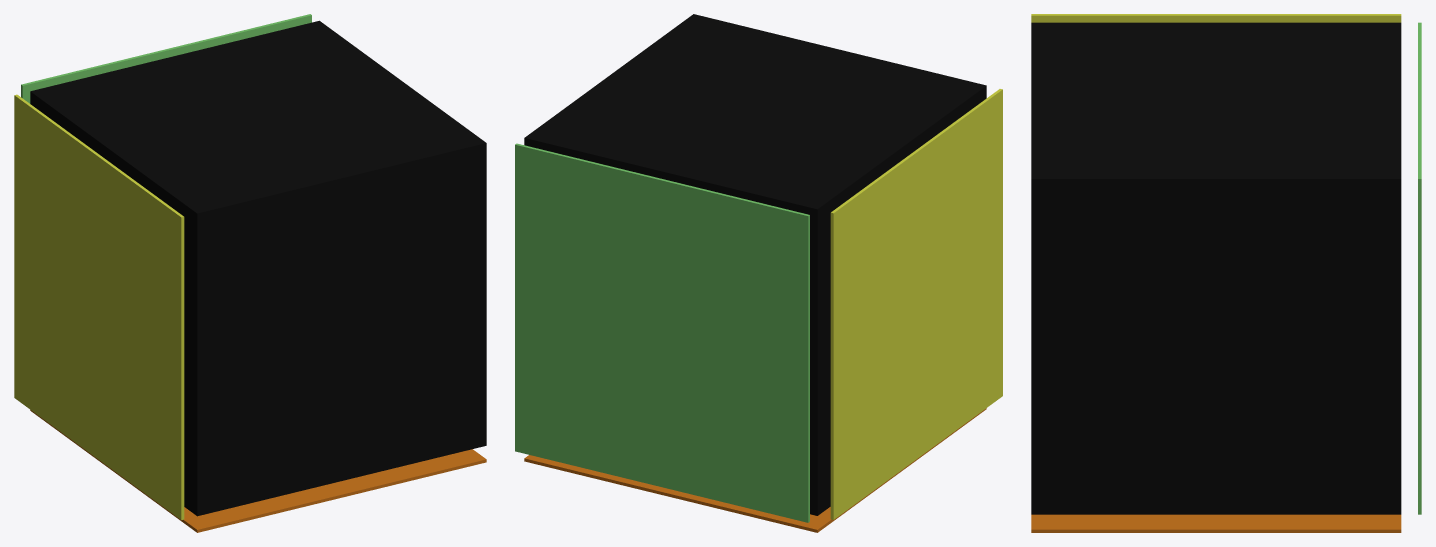
File: yog.glb
The picture shows the model from 3 angles, left to right: view 1: azimuth 30°, elevation 25°; view 2: azimuth 150°, elevation 25°; view 3: azimuth 270°, elevation 25°; orthographic projection. The views are drawn at different scales.
Visible parts, largest first — view 1: Cube, yellow-1, red-3, green-1; view 2: green-1, Cube, yellow-1, red-3; view 3: Cube, red-3, yellow-1, green-1.
Part boxes in pixels (x1=…): Cube: x1=30, y1=20, x2=486, y2=516; yellow-1: x1=14, y1=94, x2=184, y2=519; red-3: x1=30, y1=410, x2=486, y2=532; green-1: x1=21, y1=14, x2=311, y2=103; green-1: x1=515, y1=143, x2=809, y2=522; Cube: x1=524, y1=14, x2=986, y2=515; yellow-1: x1=830, y1=89, x2=1002, y2=519; red-3: x1=524, y1=408, x2=986, y2=532; Cube: x1=1031, y1=22, x2=1401, y2=514; red-3: x1=1031, y1=514, x2=1401, y2=532; yellow-1: x1=1031, y1=14, x2=1401, y2=22; green-1: x1=1418, y1=22, x2=1421, y2=514.
Bounding box in the file's own units: 2.11 × 2.11 × 2.11.
